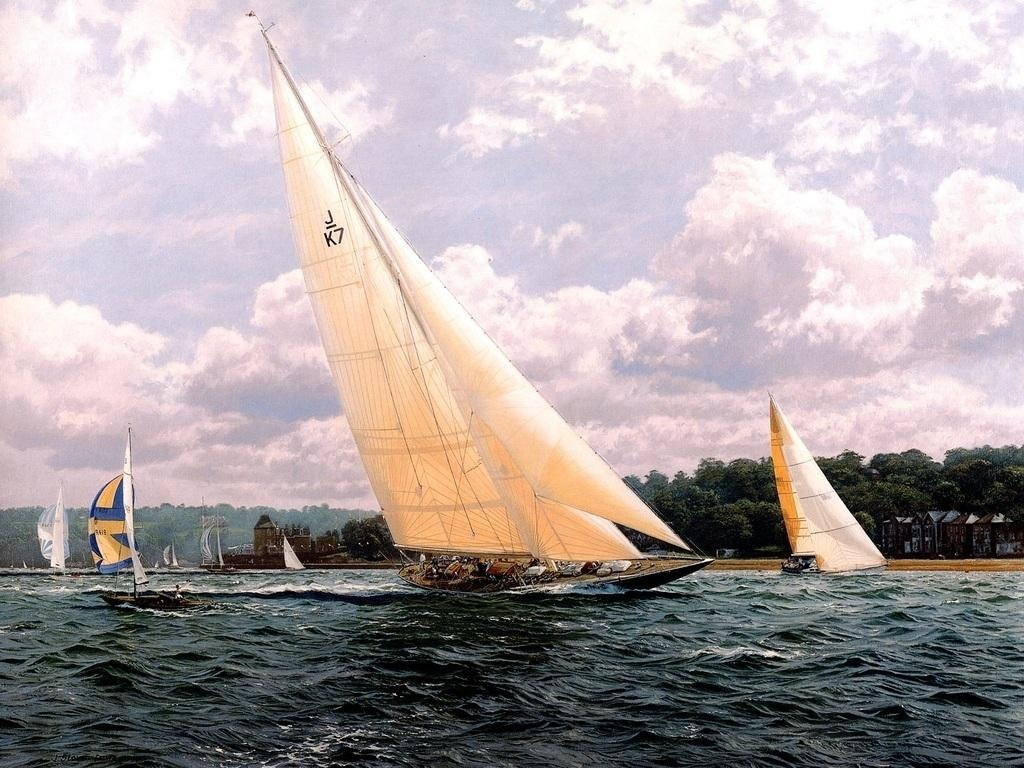fanchuan: (253, 1, 705, 599), (764, 393, 902, 574), (84, 426, 197, 607), (39, 470, 78, 576), (280, 535, 308, 574)
